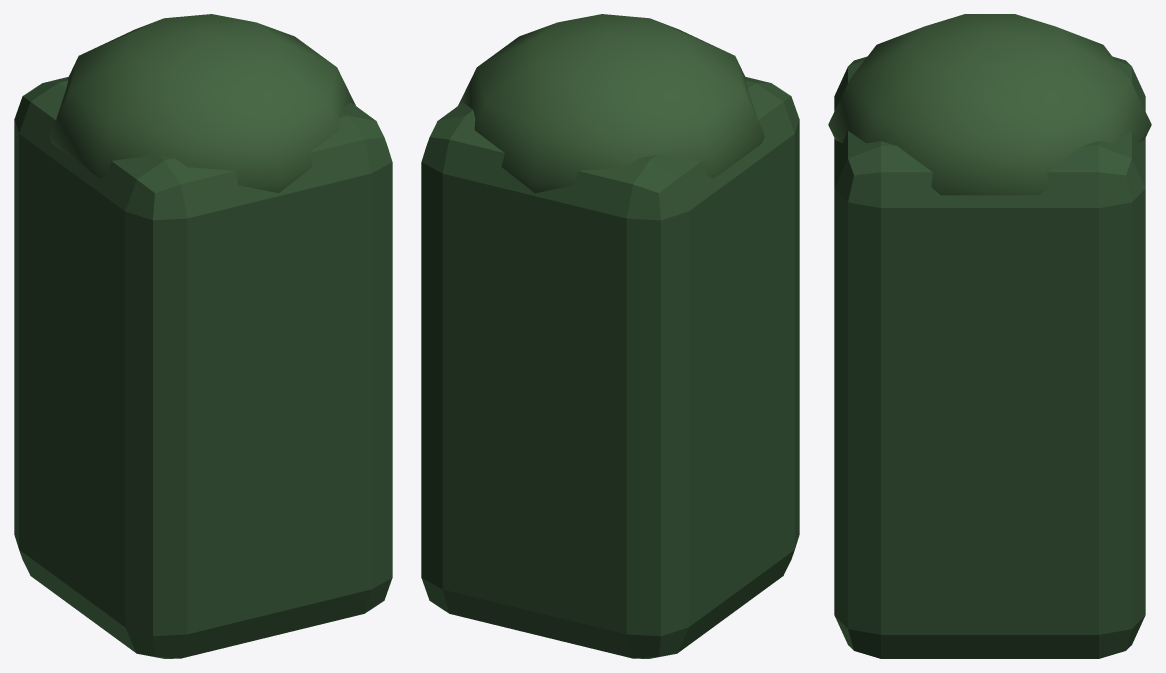
The model's file is HedgeCorner.glb.
The picture shows the model from 3 angles, left to right: view 1: azimuth 30°, elevation 25°; view 2: azimuth 150°, elevation 25°; view 3: azimuth 270°, elevation 25°; orthographic projection. The views are drawn at different scales.
Visible parts, largest first — view 1: HedgeCorner; view 2: HedgeCorner; view 3: HedgeCorner.
Part boxes in pixels (x1,y1,x2,y2): HedgeCorner: (14, 14, 392, 658); HedgeCorner: (421, 14, 799, 658); HedgeCorner: (828, 14, 1151, 658).
Size of the model in its own units: 0.8 by 1.64 by 0.832.
